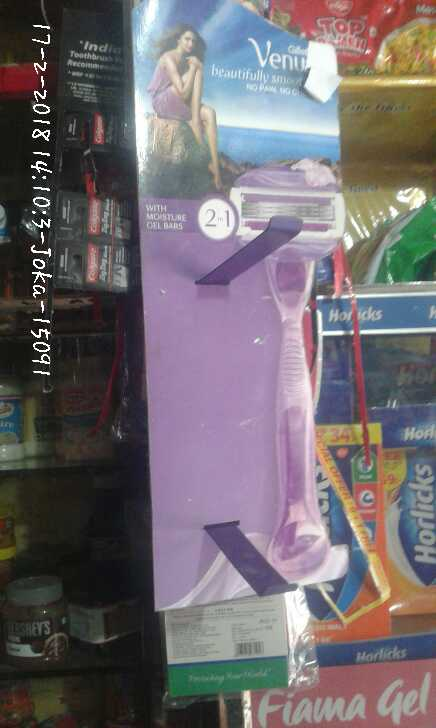reject: (95, 265, 208, 381)
